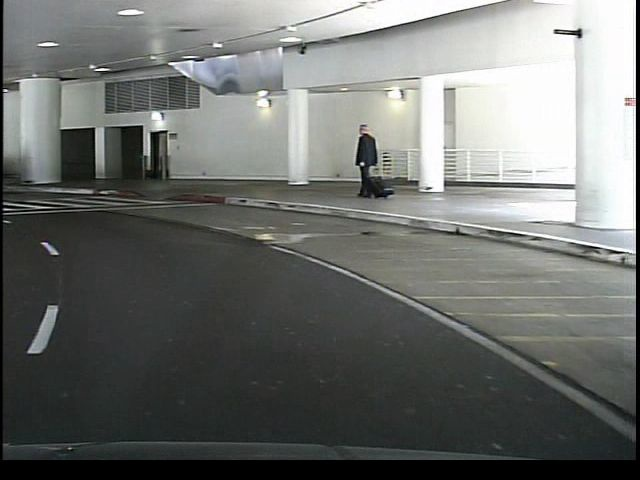person: (347, 121, 379, 199)
